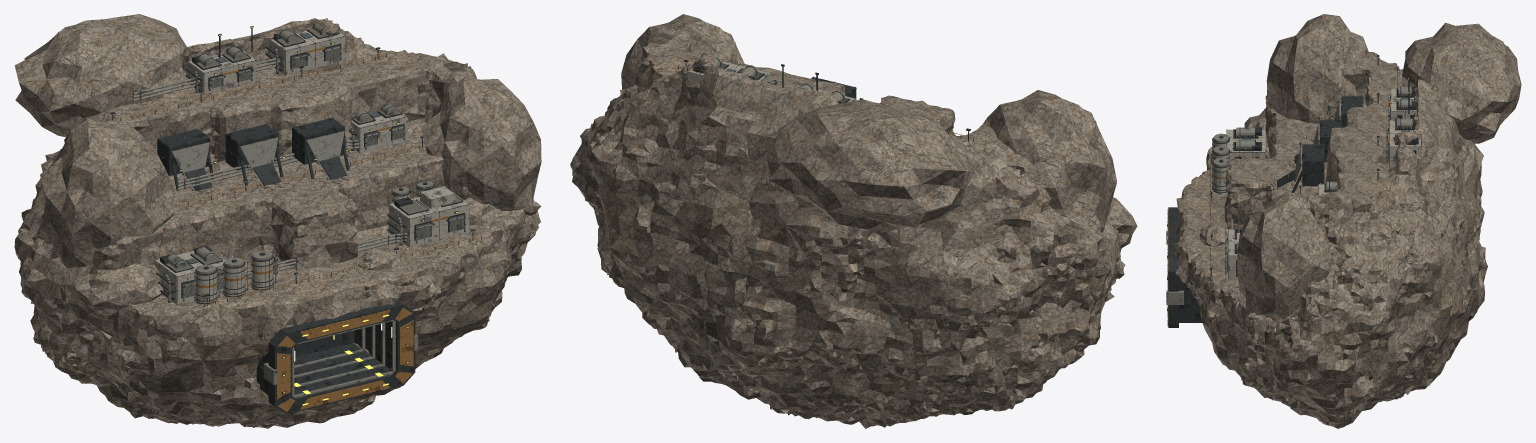
The picture shows the model from 3 angles, left to right: view 1: azimuth 30°, elevation 25°; view 2: azimuth 150°, elevation 25°; view 3: azimuth 270°, elevation 25°; orthographic projection. The views are drawn at different scales.
Parts seen in each view (by area): view 1: quarried-asteroid, static/mineral-bedrock, static/dark-structure, static/machined-alloy, static/cladding-dark-structure, static/cladding-service-ochre, static/cladding-pale-steel-1, static/cladding-pale-steel-0, static/cladding-pale-steel-2, static/service-ochre, static/pale-steel-1; view 2: quarried-asteroid, static/mineral-bedrock, static/machined-alloy; view 3: quarried-asteroid, static/mineral-bedrock, static/dark-structure, static/cladding-dark-structure, static/machined-alloy, static/cladding-pale-steel-2, static/cladding-pale-steel-1, static/cladding-pale-steel-0, static/pale-steel-1, static/service-ochre.
Boxes of the visible parts, x1,y1,x2,y2 form: quarried-asteroid: [14, 18, 540, 428]; static/mineral-bedrock: [14, 14, 541, 320]; static/dark-structure: [110, 18, 481, 413]; static/machined-alloy: [133, 25, 470, 412]; static/cladding-dark-structure: [157, 34, 452, 394]; static/cladding-service-ochre: [276, 308, 413, 411]; static/cladding-pale-steel-1: [155, 32, 455, 304]; static/cladding-pale-steel-0: [160, 35, 468, 298]; static/cladding-pale-steel-2: [154, 30, 469, 304]; static/service-ochre: [110, 18, 481, 305]; static/pale-steel-1: [195, 188, 434, 304]; quarried-asteroid: [570, 30, 1125, 428]; static/mineral-bedrock: [617, 14, 1137, 248]; static/machined-alloy: [687, 56, 883, 104]; quarried-asteroid: [1173, 52, 1487, 428]; static/mineral-bedrock: [1200, 14, 1521, 319]; static/dark-structure: [1167, 55, 1421, 327]; static/cladding-dark-structure: [1179, 86, 1418, 322]; static/machined-alloy: [1166, 66, 1421, 318]; static/cladding-pale-steel-2: [1226, 97, 1421, 279]; static/cladding-pale-steel-1: [1228, 89, 1421, 267]; static/cladding-pale-steel-0: [1226, 96, 1421, 280]; static/pale-steel-1: [1212, 108, 1333, 193]; static/service-ochre: [1210, 60, 1421, 277].
Size of the model in its own units: 1405 by 965 by 1003.
Materials: 13 (11 with a texture image).
